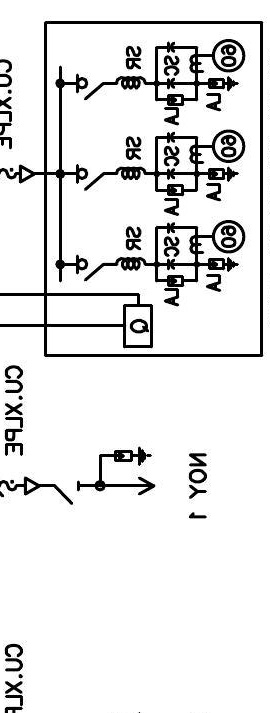22_cap_bank: (43, 20, 264, 358)
22_ds_la_out: (54, 446, 156, 506)
Q: (123, 303, 154, 349)
terminator_single: (18, 164, 36, 185), (23, 476, 41, 496)
